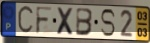2: (119, 9, 134, 39)
B: (75, 7, 95, 38)
C: (16, 4, 35, 37)
F: (35, 6, 54, 36)
S: (100, 8, 117, 38)
X: (56, 7, 76, 38)
